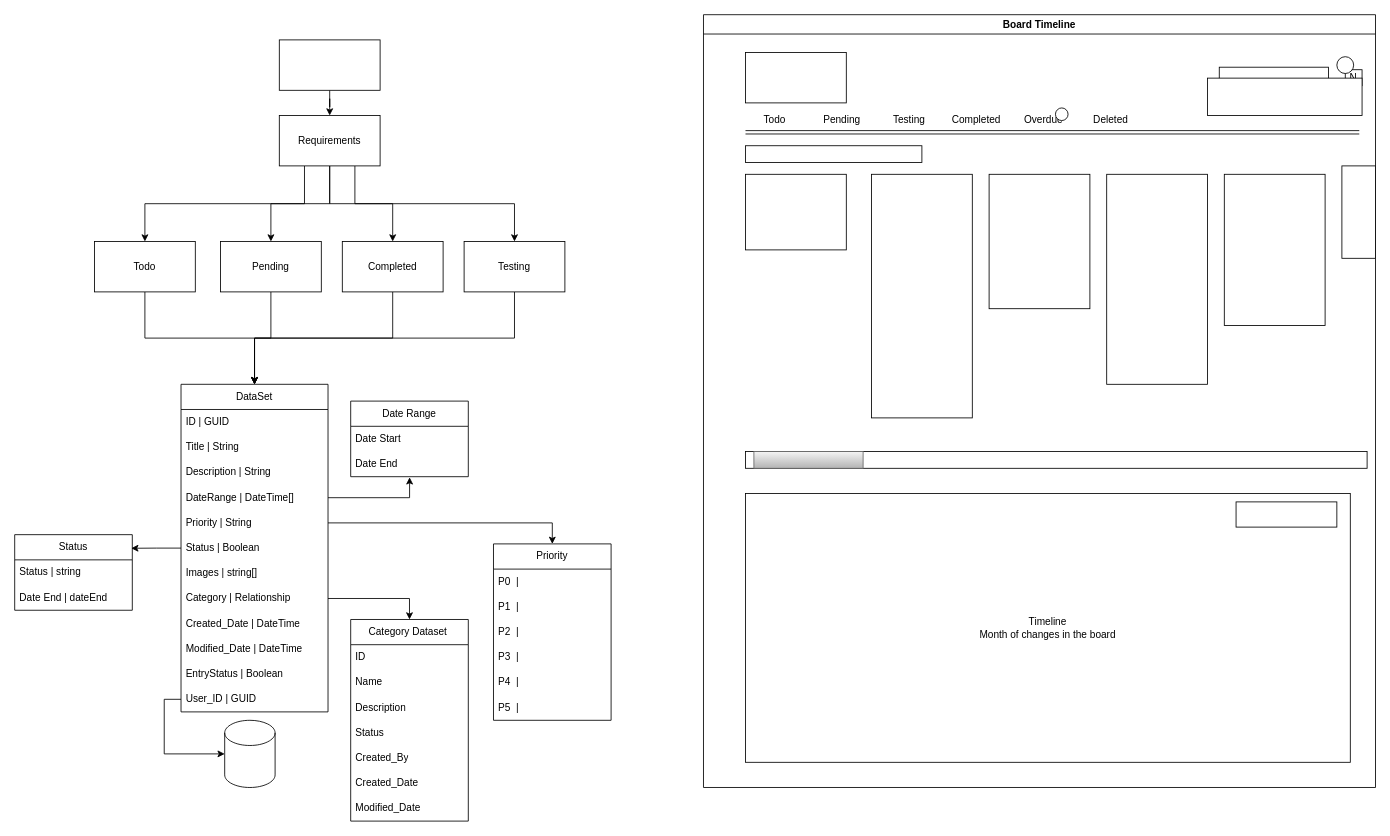
Some shapes in this 1390 by 836 pixel diagram are drawn without their labels. Here are the shapes that lost their labels. From the top down, the centre of each, then its label:
At (329,64): "Kanban Boards".
At (795,77): "LOGO??".
At (1273,77): "Create New Board".
At (1284,96): "Notification".
At (833,154): "Search Bar".
At (1286,514): "Year".
At (249,753): "Users".
